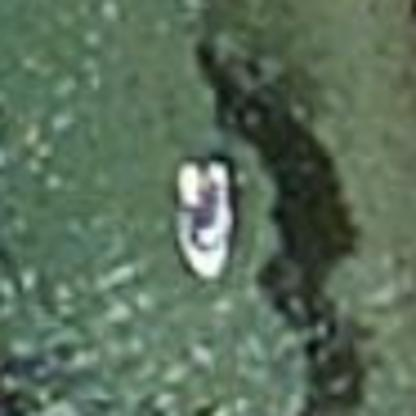ship: (165, 150, 246, 288)
